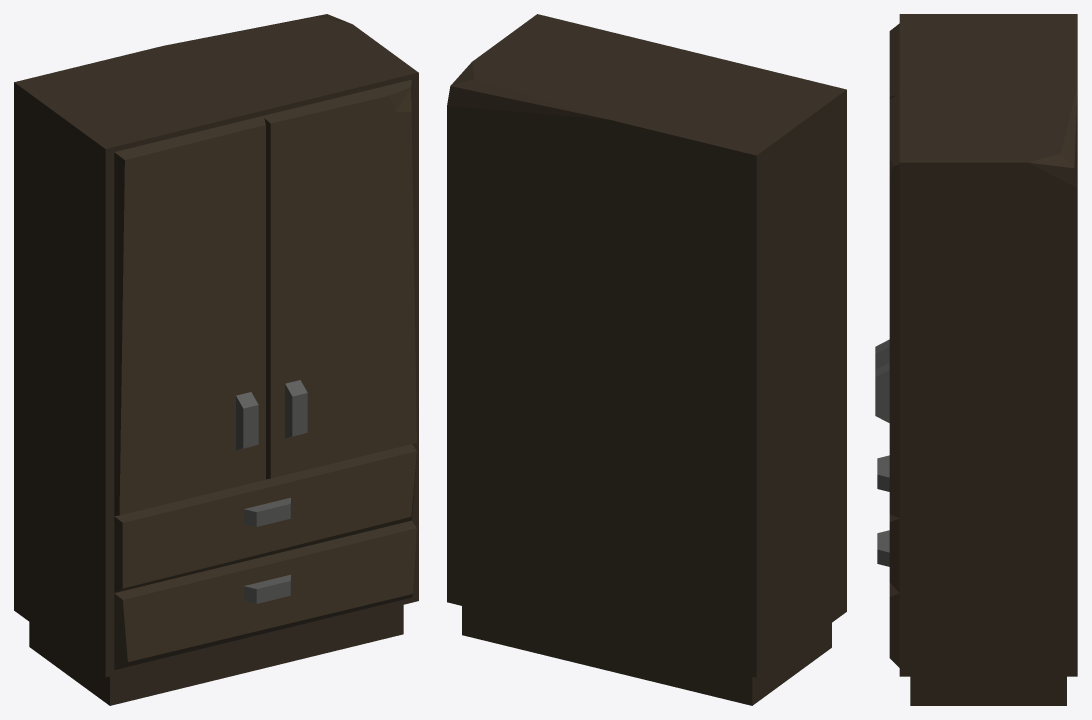
The model's file is SM_Prop_Wardrobe_01.fbx.
3 renders of one model, left to right at view 1: azimuth 30°, elevation 25°; view 2: azimuth 150°, elevation 25°; view 3: azimuth 270°, elevation 25°, orthographic. The views are drawn at different scales.
Visible parts, largest first — view 1: SM_Prop_Wardrobe_01; view 2: SM_Prop_Wardrobe_01; view 3: SM_Prop_Wardrobe_01.
Boxes of the visible parts, x1,y1,x2,y2 form: SM_Prop_Wardrobe_01: [14, 14, 418, 705]; SM_Prop_Wardrobe_01: [447, 14, 846, 705]; SM_Prop_Wardrobe_01: [875, 14, 1077, 705].
Size of the model in its own units: 112 by 193 by 64.61.
